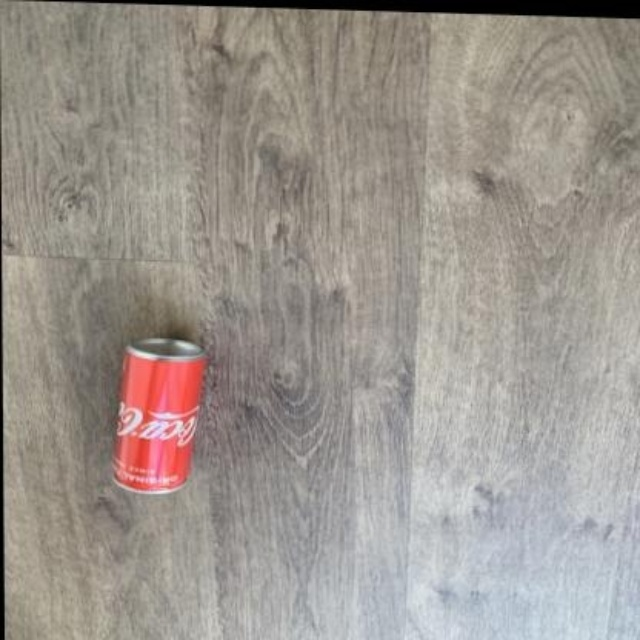trash: (114, 338, 206, 492)
